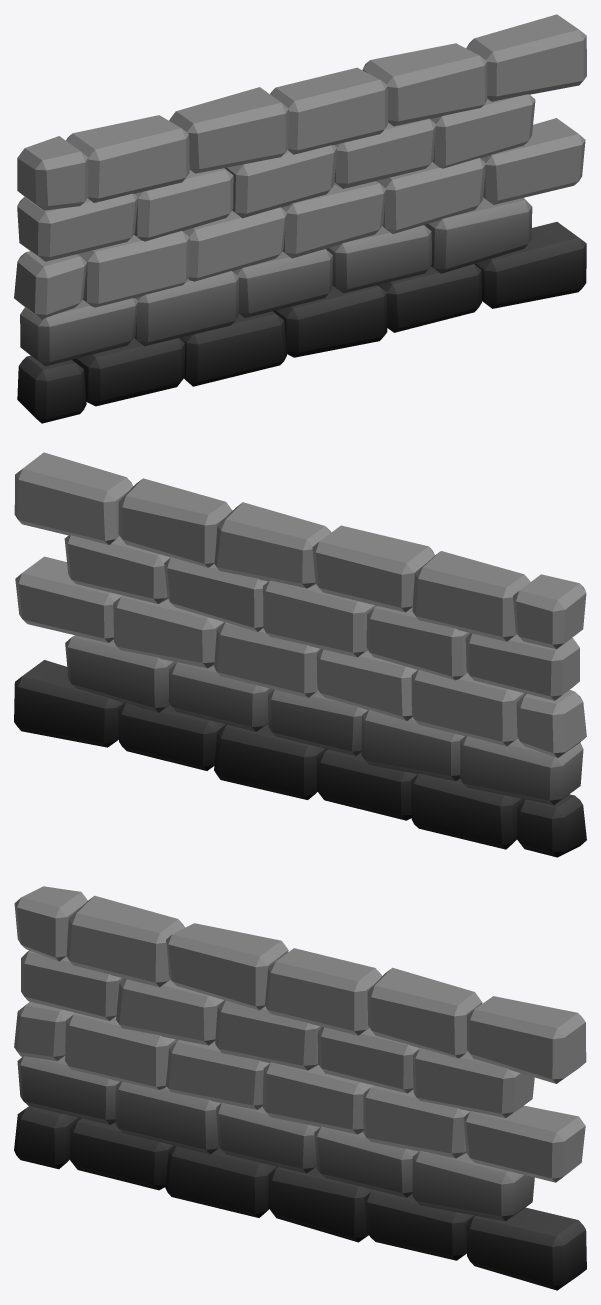
The model's file is BrickWall2x1_01_End_R.fbx.
The picture shows the model from 3 angles, top to bottom: view 1: azimuth 30°, elevation 25°; view 2: azimuth 150°, elevation 25°; view 3: azimuth 330°, elevation 25°; orthographic projection.
Visible parts, largest first — view 1: BrickWall2x1_01_End_R; view 2: BrickWall2x1_01_End_R; view 3: BrickWall2x1_01_End_R.
Part boxes in pixels (x1,y1,x2,y2): BrickWall2x1_01_End_R: [14, 14, 586, 423]; BrickWall2x1_01_End_R: [14, 452, 586, 857]; BrickWall2x1_01_End_R: [14, 886, 586, 1290].
Size of the model in its own units: 222 by 101 by 21.84.
